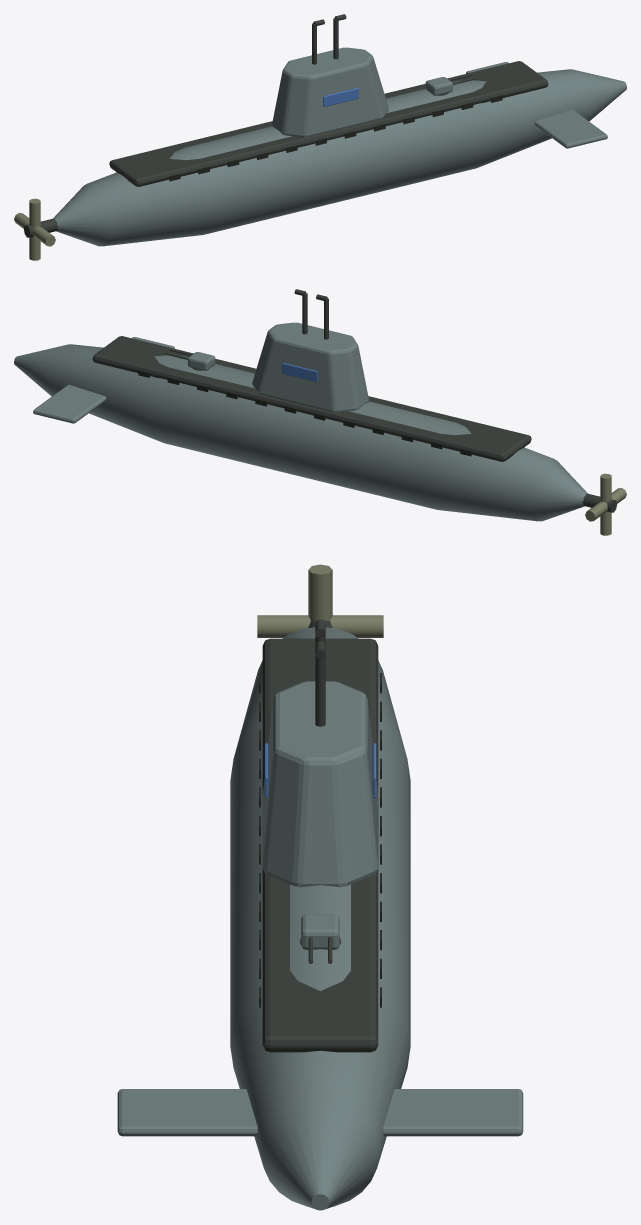
Rendered from submarine.glb.
3 renders of one model, top to bottom at view 1: azimuth 30°, elevation 25°; view 2: azimuth 150°, elevation 25°; view 3: azimuth 270°, elevation 25°, orthographic. The views are drawn at different scales.
Parts seen in each view (by area): view 1: NavalPaint, Steel, EdgeSteel, Tracks, TeamColor; view 2: NavalPaint, Steel, EdgeSteel, Tracks, TeamColor; view 3: NavalPaint, Steel, EdgeSteel, Tracks.
Boxes of the visible parts, left/top/right/bottom form: NavalPaint: left=53, top=47, right=626, bottom=246; Steel: left=24, top=14, right=548, bottom=237; EdgeSteel: left=14, top=198, right=55, bottom=260; Tracks: left=169, top=95, right=502, bottom=181; TeamColor: left=323, top=88, right=358, bottom=106; NavalPaint: left=14, top=322, right=587, bottom=521; Steel: left=92, top=289, right=616, bottom=512; EdgeSteel: left=585, top=473, right=626, bottom=535; Tracks: left=138, top=370, right=471, bottom=456; TeamColor: left=282, top=363, right=317, bottom=381; NavalPaint: left=117, top=627, right=523, bottom=1210; Steel: left=262, top=619, right=378, bottom=1052; EdgeSteel: left=257, top=564, right=383, bottom=637; Tracks: left=259, top=673, right=381, bottom=1007.
Bounding box in the file's own units: 9.19 × 2.66 × 2.7.
